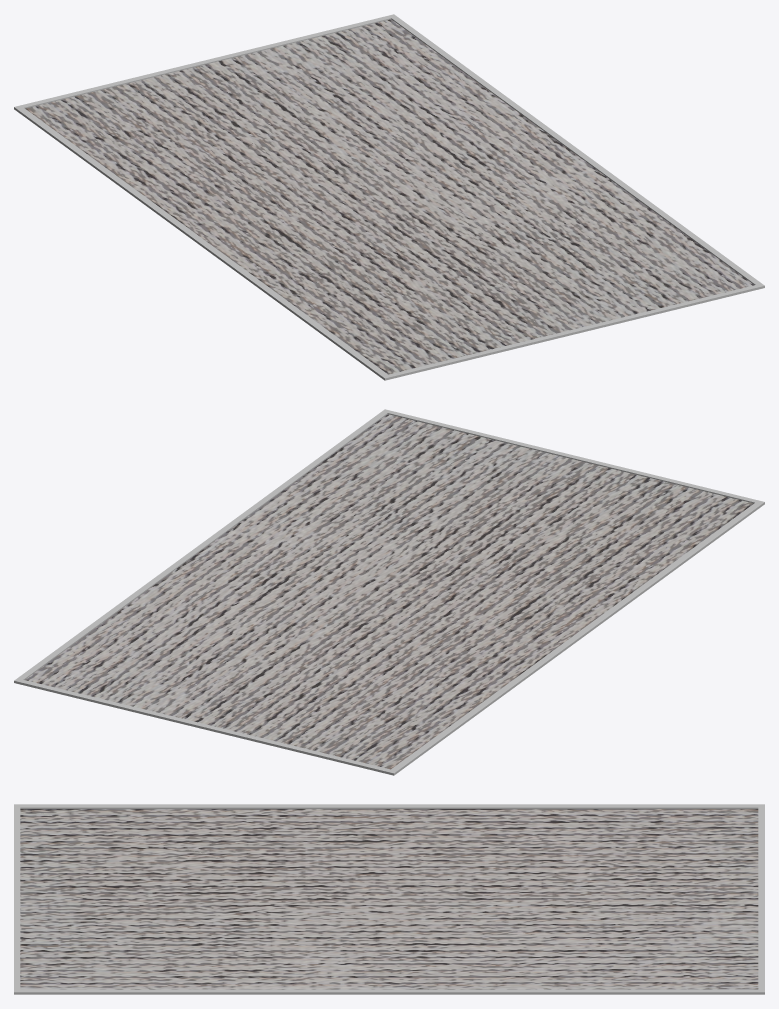
Rendered from Kover.fbx.
3 views of the same model, one above another, from view 1: azimuth 30°, elevation 25°; view 2: azimuth 150°, elevation 25°; view 3: azimuth 270°, elevation 25° (orthographic).
Visible parts, largest first — view 1: Plane, Cube.002; view 2: Plane, Cube.002; view 3: Plane, Cube.002.
Boxes of the visible parts, x1=… form: Plane: x1=25, y1=19, x2=754, y2=374; Cube.002: x1=14, y1=14, x2=764, y2=380; Plane: x1=25, y1=414, x2=753, y2=769; Cube.002: x1=14, y1=409, x2=764, y2=775; Plane: x1=20, y1=809, x2=758, y2=989; Cube.002: x1=14, y1=804, x2=764, y2=994.
Bounding box in the file's own units: 5050 × 28.47 × 8536.
